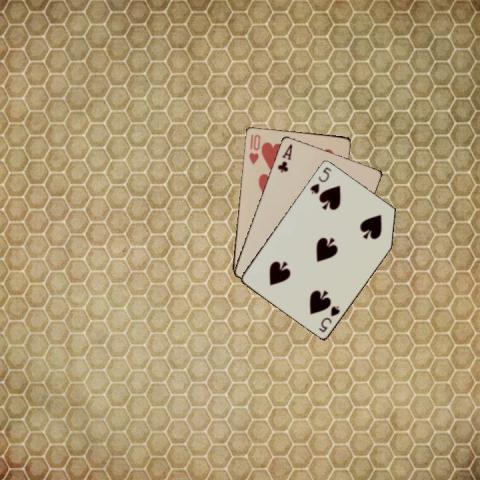10h: (246, 131, 261, 166)
5s: (307, 164, 333, 196), (316, 303, 341, 333)
Ac: (275, 141, 293, 173)
